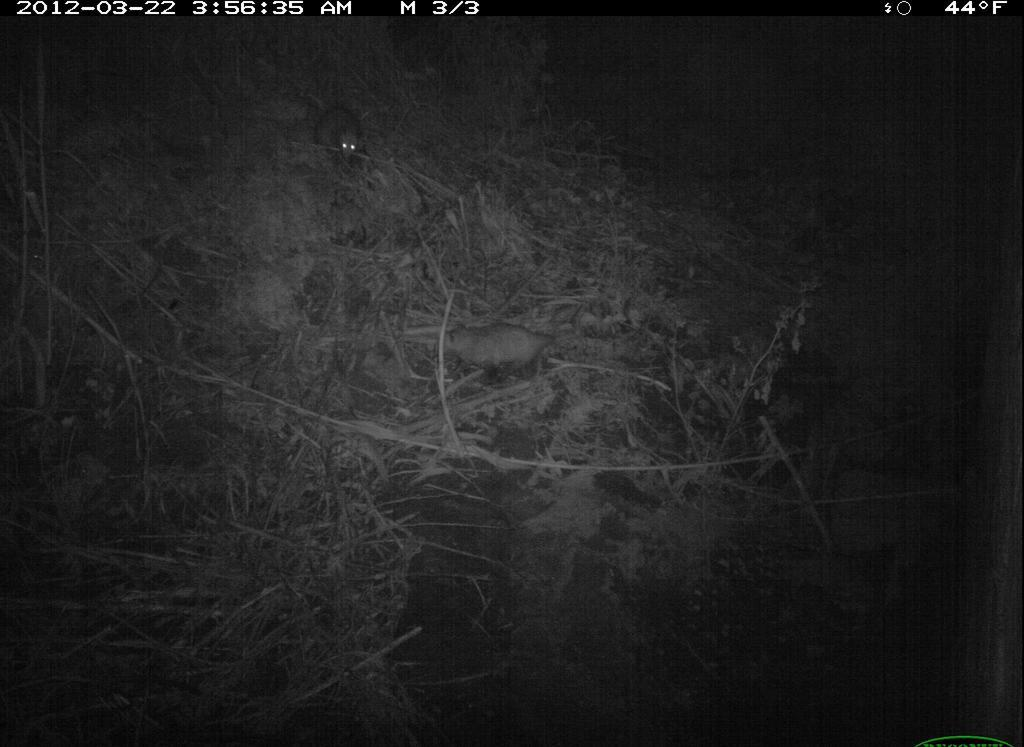opossum: (437, 318, 583, 379), (306, 100, 376, 164)
